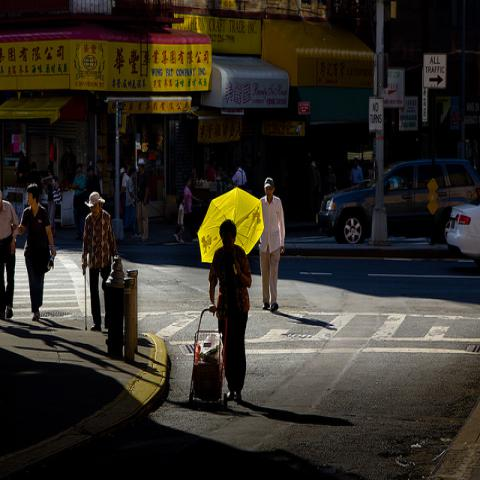car: (315, 158, 479, 248), (446, 203, 479, 259)
